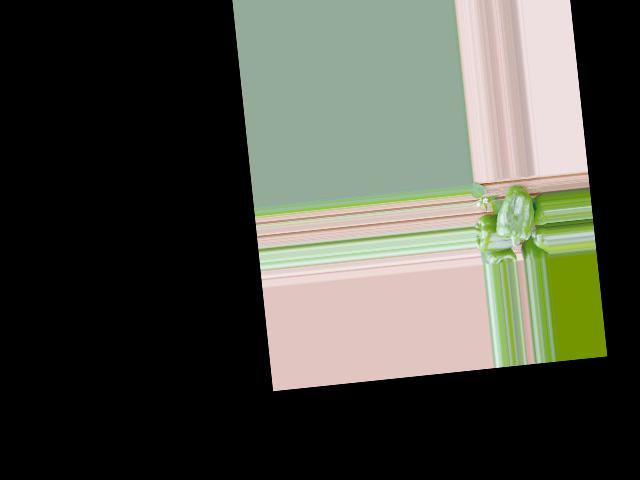bell_pepper: (529, 229, 550, 256)
